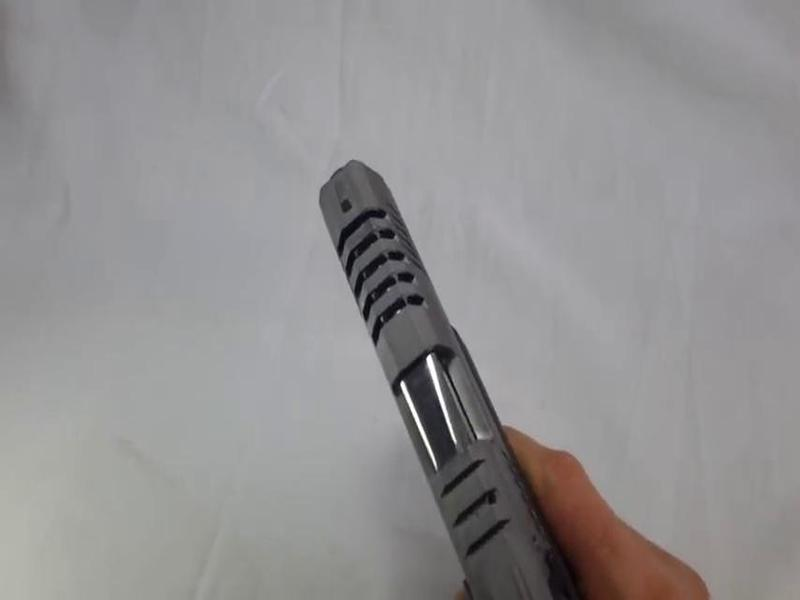Pistola: (284, 123, 587, 600)
